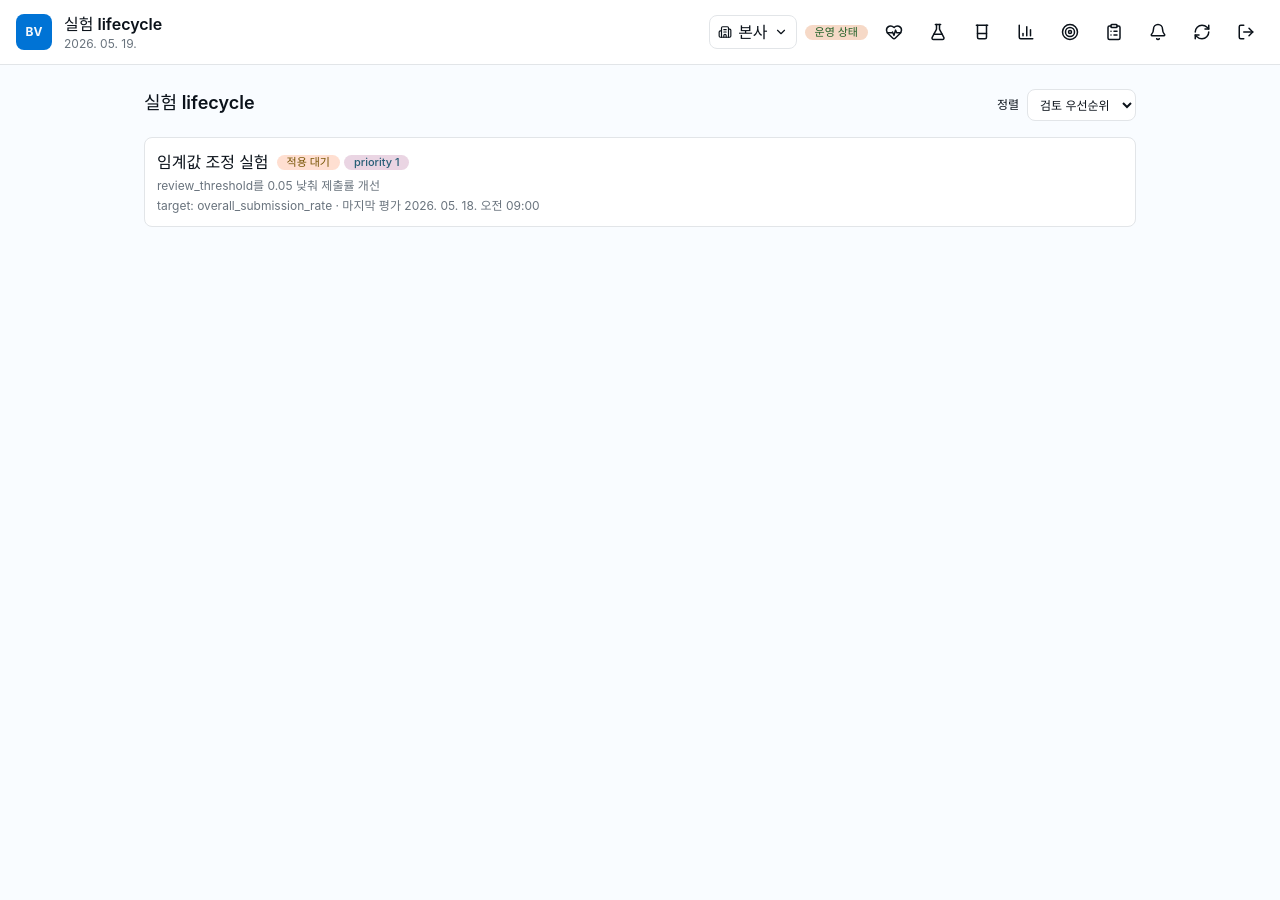
Test case: ExperimentsScreen › Force 적용이 실패하면 danger toast가 표시된다
The width and height of the screenshot is (1280, 900).
Step 1. Click the button "임계값 조정 실험" → (213, 162), box [144, 137, 1136, 227]
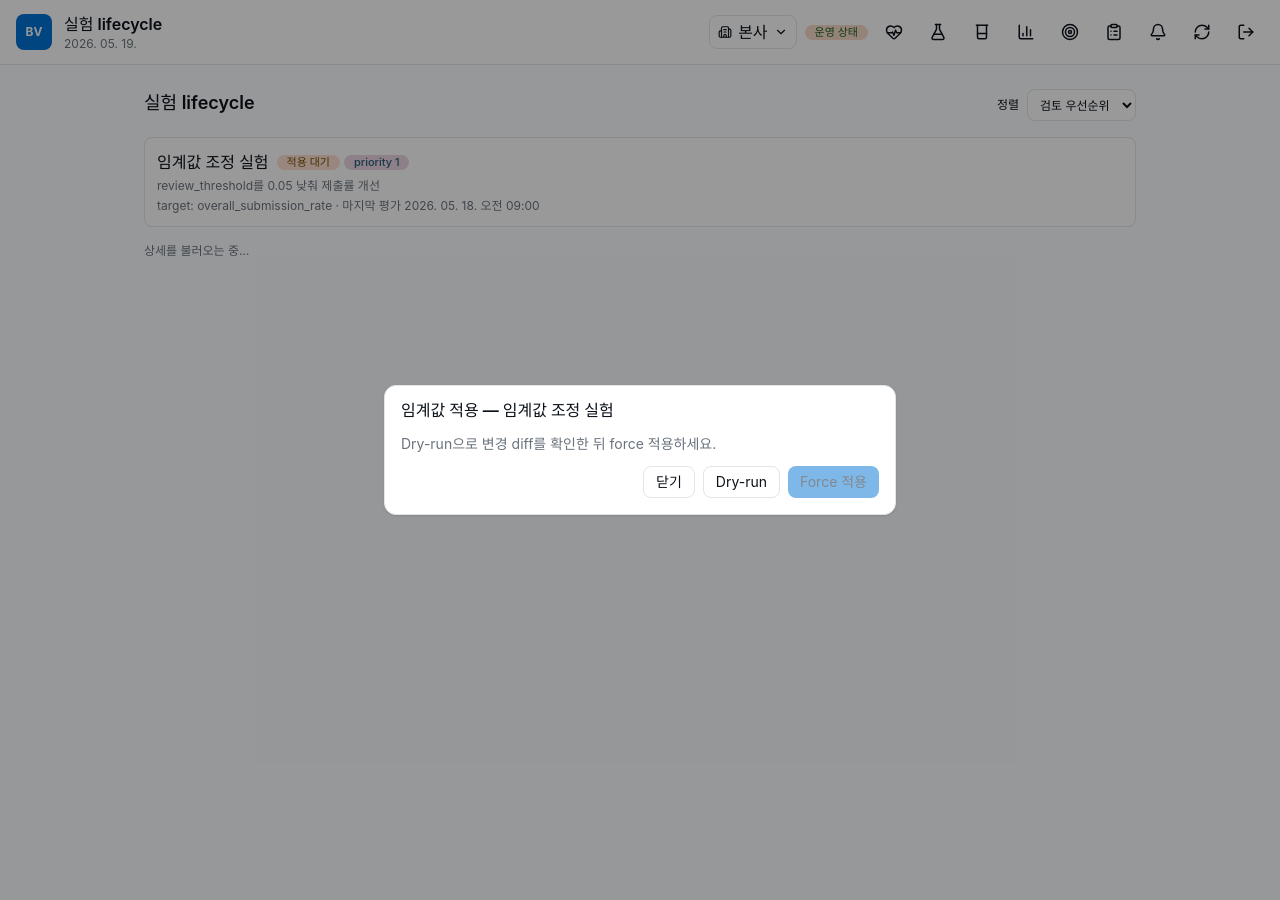
Step 2. Click the button "Dry-run" → (741, 482), box [703, 466, 780, 498]
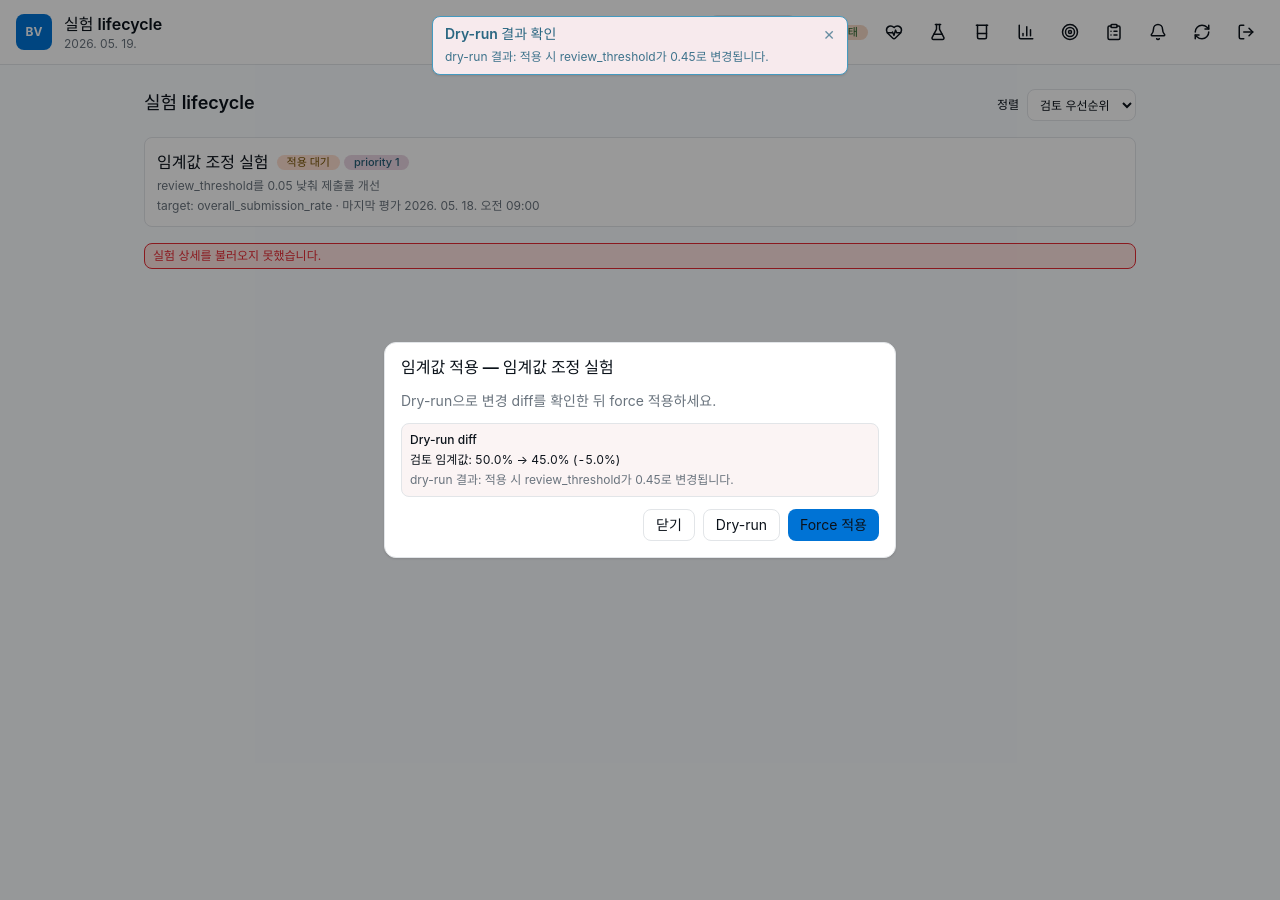
Now the text "Dry-run diff" is shown, box [410, 432, 477, 447]
Now the button "Force 적용" is enabled
Step 3. Click the button "Force 적용" → (834, 525), box [788, 509, 879, 541]
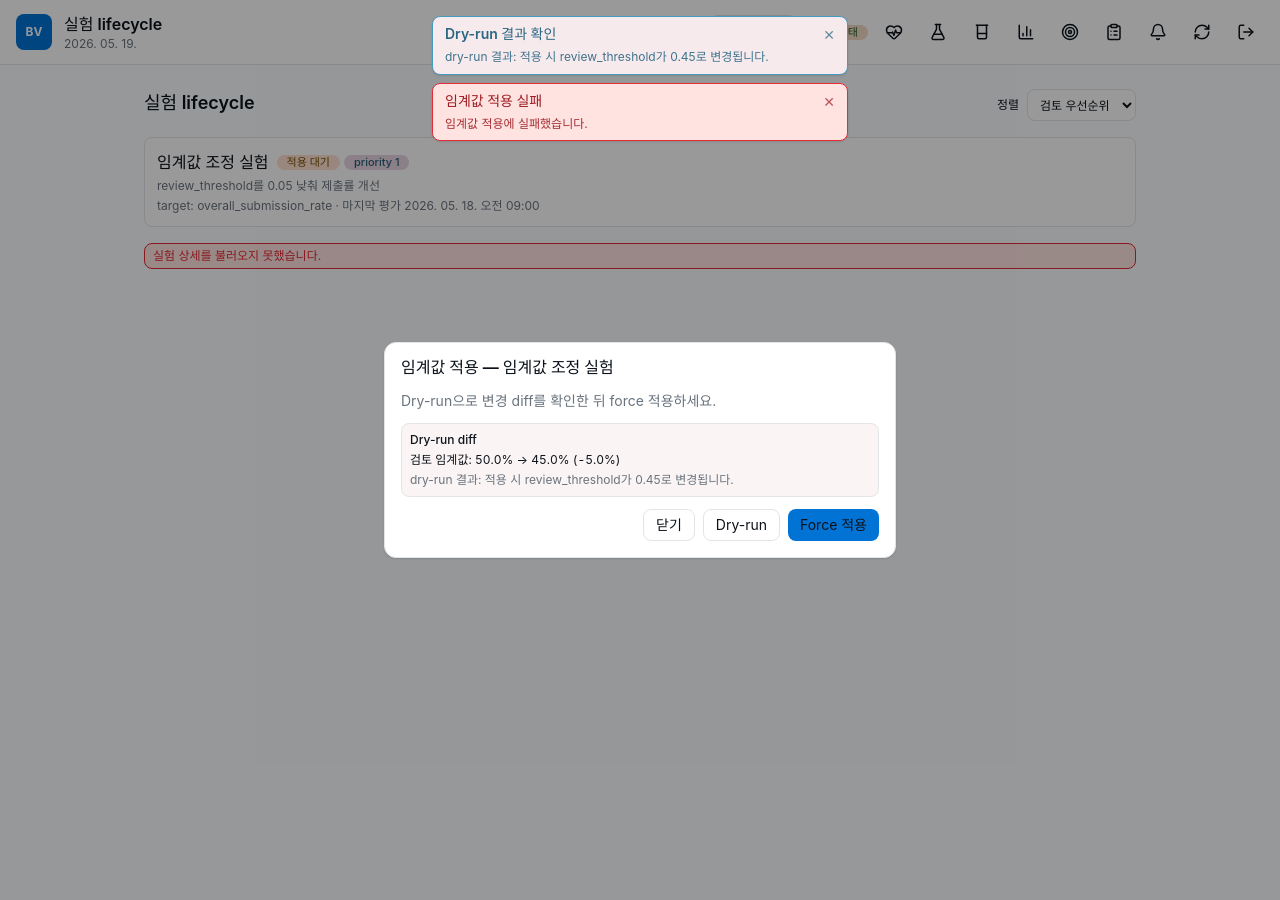
Now the text "임계값 적용 실패" is shown, box [445, 92, 542, 109]
